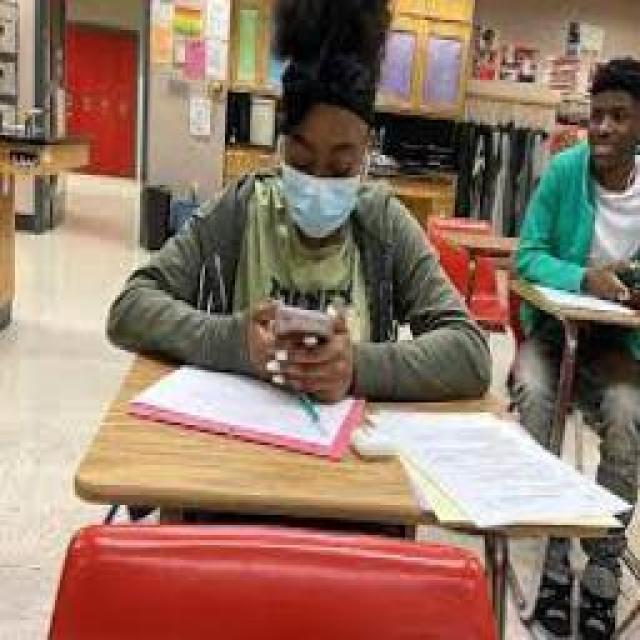phone: (107, 0, 495, 408), (517, 57, 640, 302)
